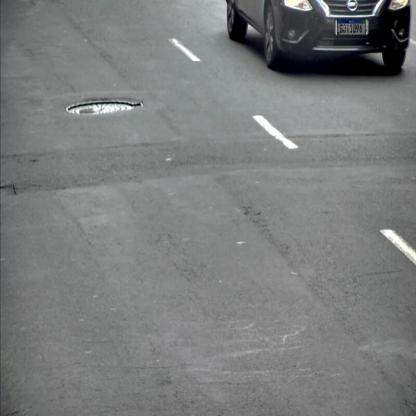PlacaM: (337, 19, 366, 35)
